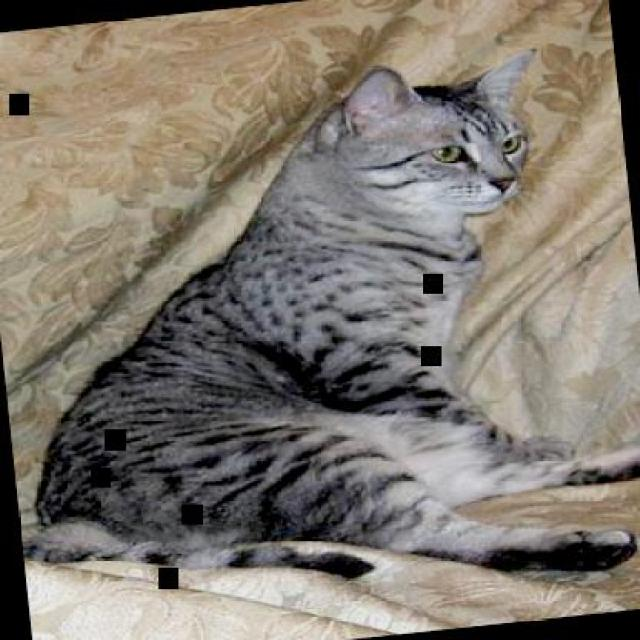cat: (0, 38, 638, 632)
